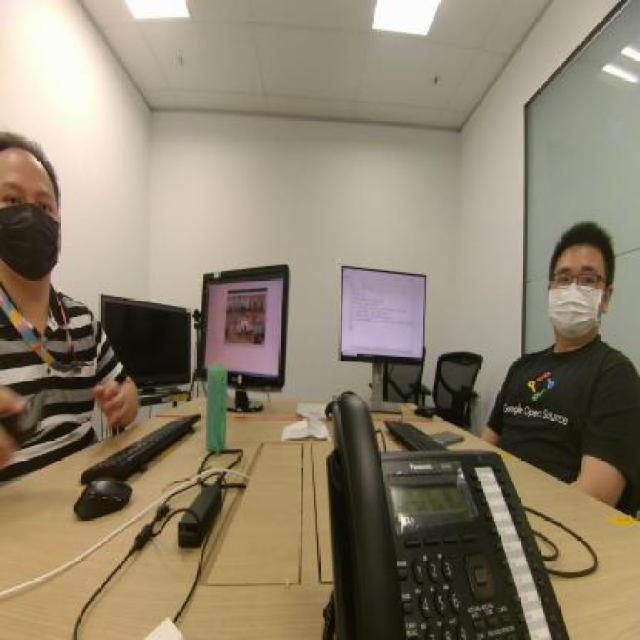Person: (498, 189, 636, 437), (0, 107, 83, 428)
